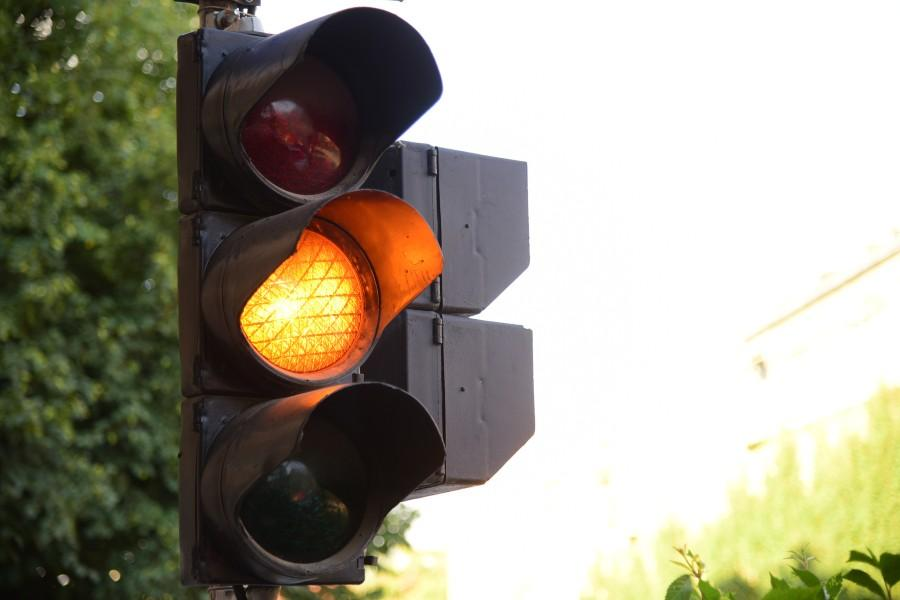yellow_light: (178, 5, 445, 584)
